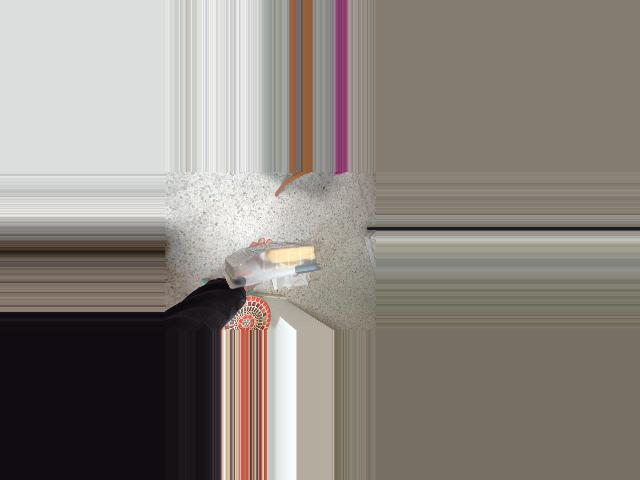cheese: (220, 241, 318, 292)
